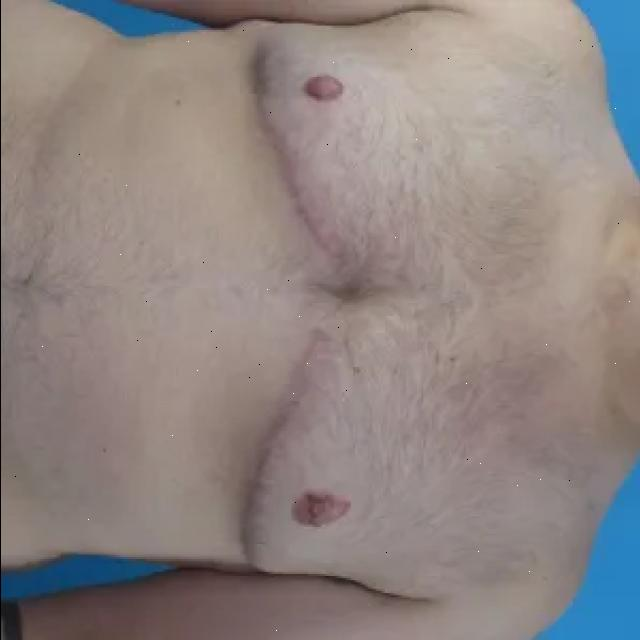Seno herido: (229, 303, 449, 582), (241, 16, 450, 272)
